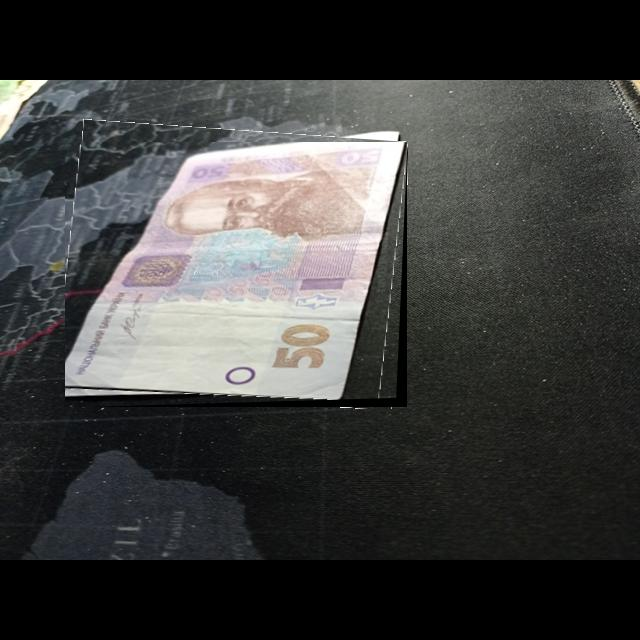50uah: (65, 142, 408, 401)
